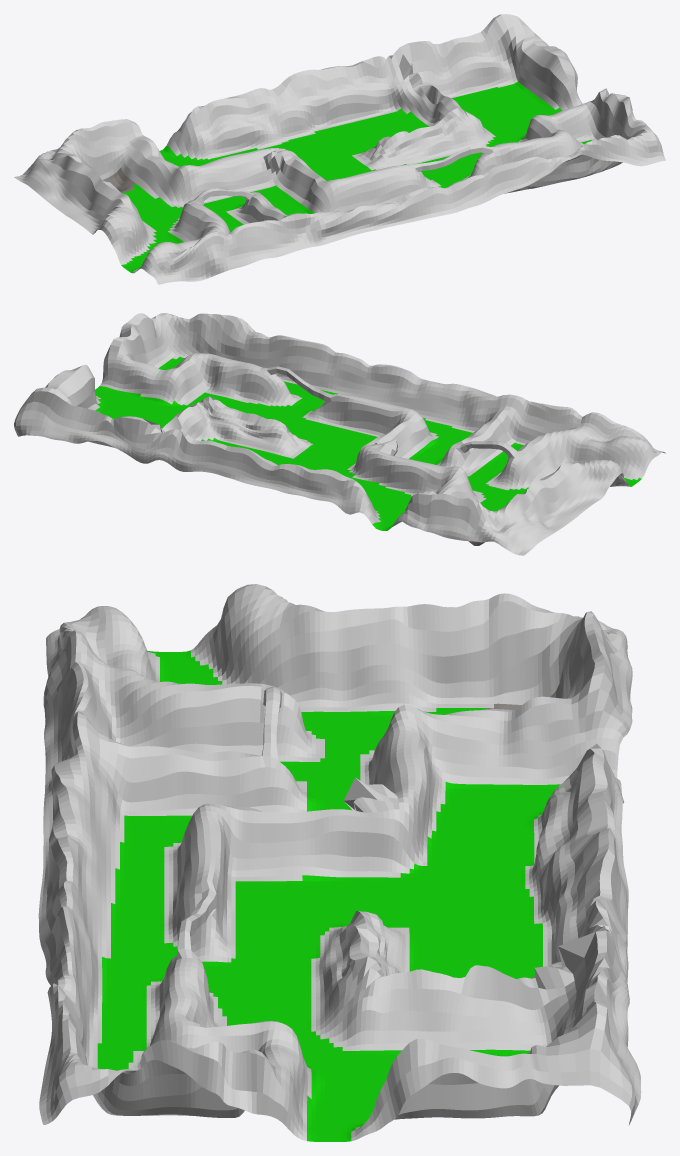
File: CanyonTerrian.fbx
3 views of the same model, one above another, from view 1: azimuth 30°, elevation 25°; view 2: azimuth 150°, elevation 25°; view 3: azimuth 270°, elevation 25° (orthographic). The views are drawn at different scales.
Visible parts, largest first — view 1: Cube; view 2: Cube; view 3: Cube.
Part boxes in pixels (x1,y1,x2,y2): Cube: (14, 14, 665, 284); Cube: (14, 313, 665, 555); Cube: (38, 584, 641, 1141).
Bounding box in the file's own units: 5309 × 683 × 2695.
